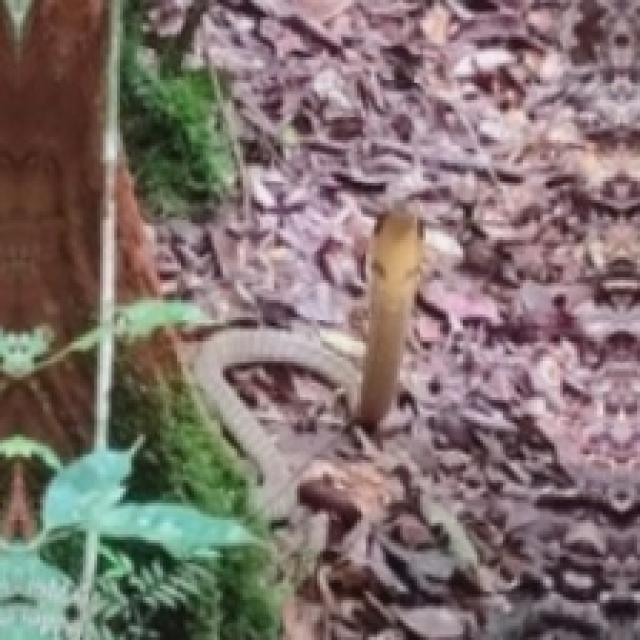king cobra: (194, 203, 420, 514)
